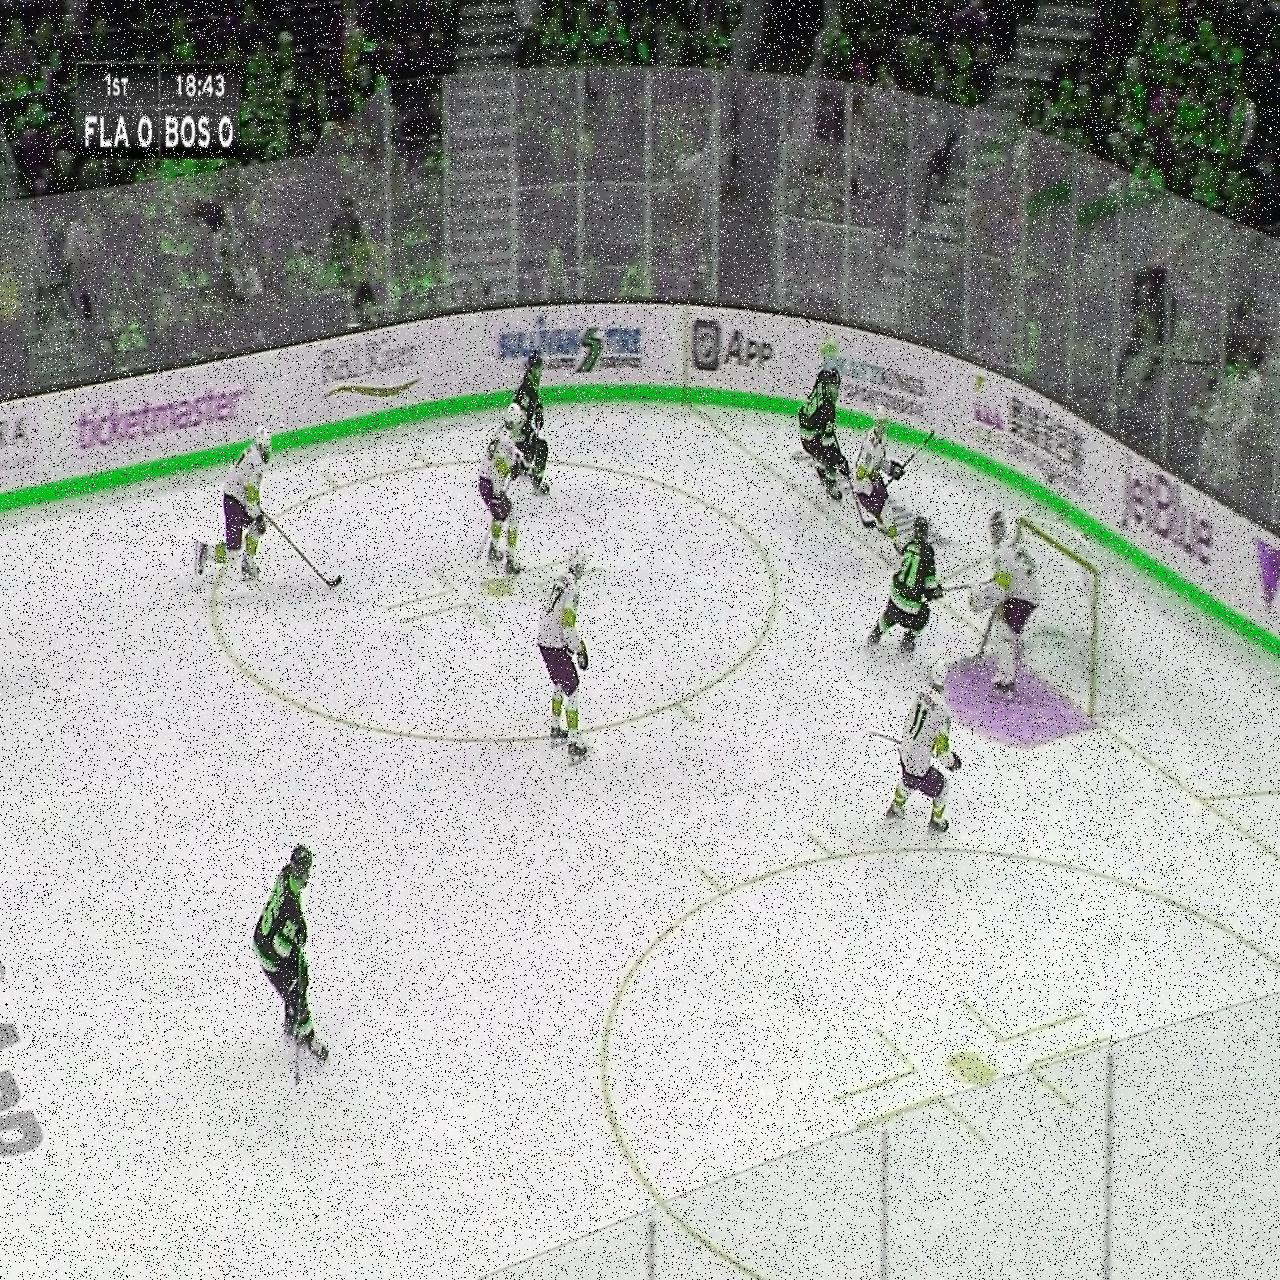Ad: (971, 362, 1085, 502), (1114, 441, 1217, 591), (74, 382, 254, 450), (816, 325, 932, 428), (496, 306, 649, 381), (316, 332, 427, 407), (692, 311, 774, 388)
